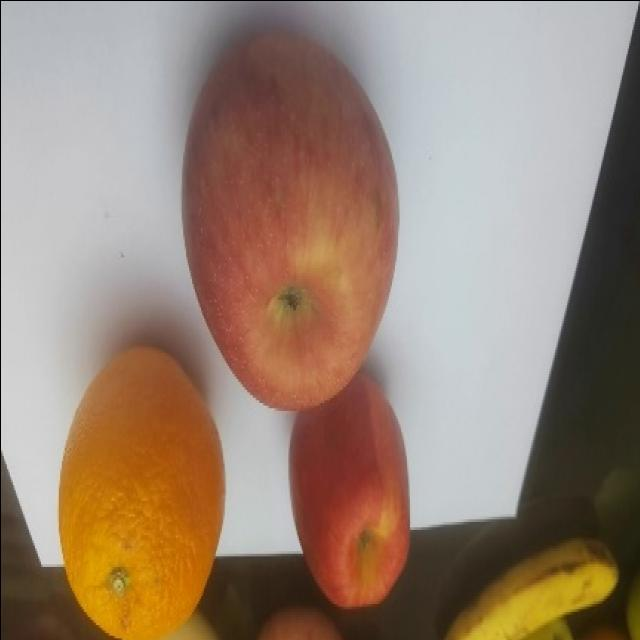Apple: (180, 28, 400, 411), (288, 370, 411, 609)
Banana: (443, 535, 619, 639)
Orange: (57, 343, 226, 638)
